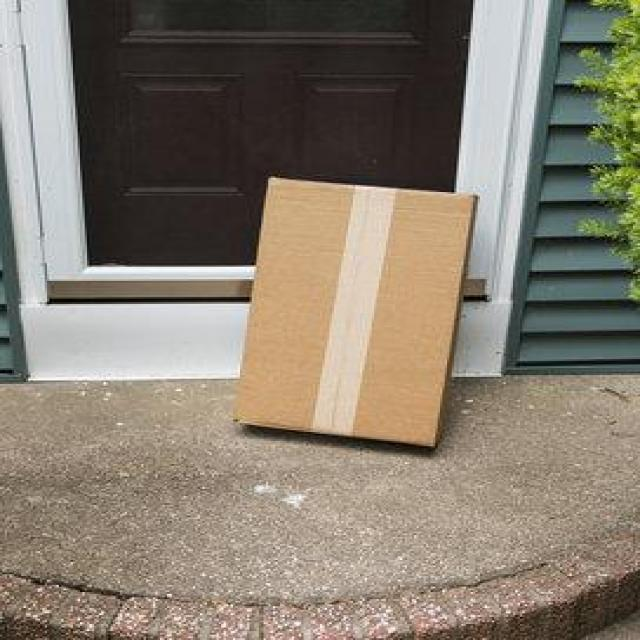box: (228, 174, 466, 454)
